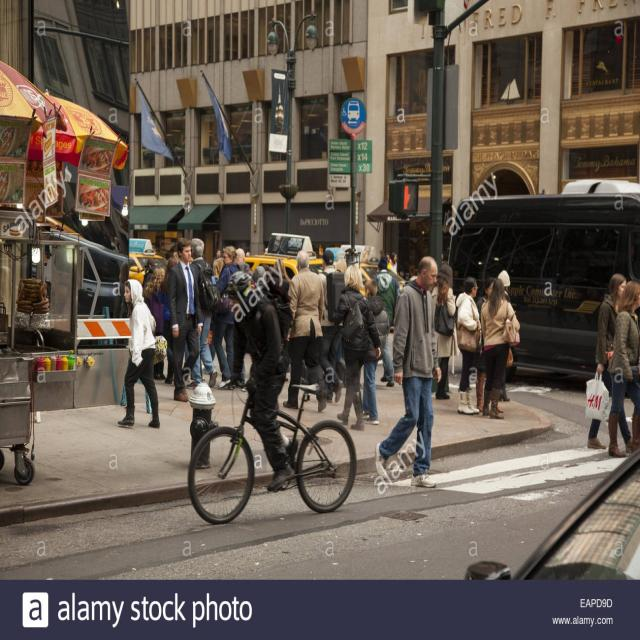body: (221, 264, 295, 492), (374, 255, 442, 490), (586, 272, 634, 452), (332, 263, 382, 431), (115, 276, 168, 430), (282, 248, 327, 413), (605, 280, 640, 458), (167, 236, 204, 403), (480, 278, 520, 420), (185, 237, 218, 389), (353, 242, 386, 386), (208, 245, 240, 392), (317, 248, 346, 404), (361, 278, 391, 426), (475, 276, 505, 414), (454, 275, 482, 415), (430, 260, 458, 400), (373, 255, 398, 388), (143, 266, 171, 381), (497, 268, 514, 403), (244, 249, 281, 288), (118, 260, 132, 318), (141, 257, 162, 289), (44, 245, 53, 309), (233, 247, 250, 273), (162, 245, 180, 266), (387, 251, 398, 276), (211, 249, 224, 270), (398, 266, 417, 280), (384, 251, 393, 272), (112, 236, 123, 253), (379, 248, 389, 263)
